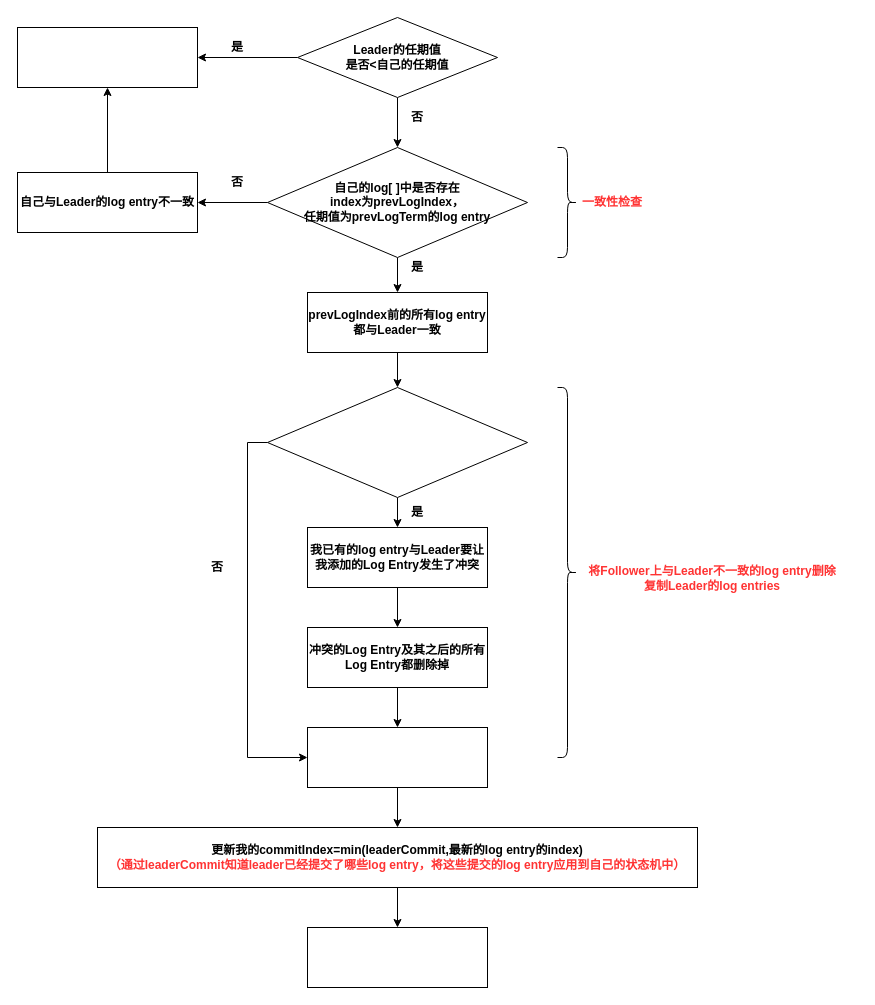
This 875x1005 diagram has some shape labels left out. The centre of each missing label's shape, as x and y in pixels:
log[ ]中添加新的log entries: the point at 397,757
我的log[ ]中是否存在与要添加的log entries index相同，term不同的log entry: the point at 397,442
返回success=false: the point at 107,57
返回success=true: the point at 397,957
